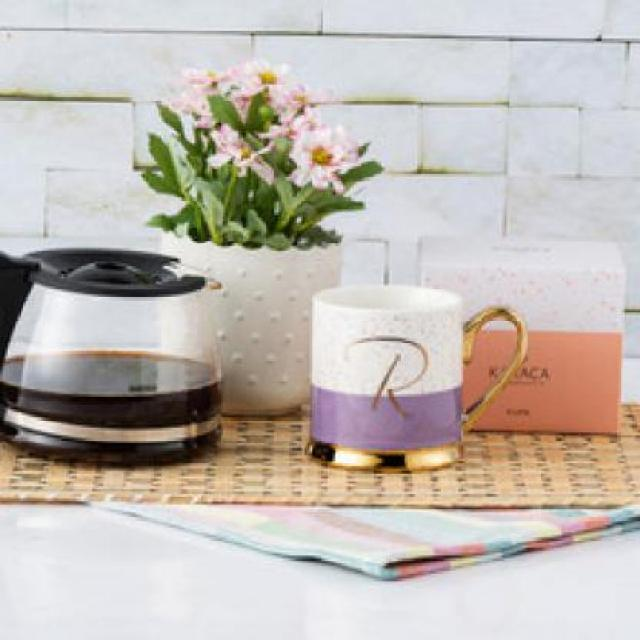taza: (310, 286, 530, 472)
